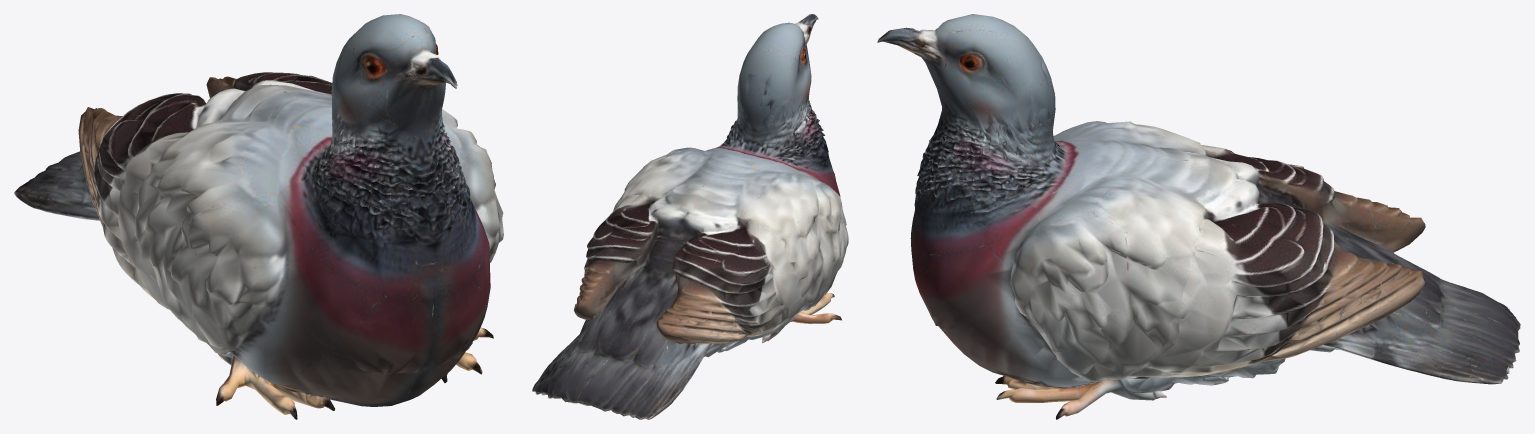
The model's file is kit_izmir_pigeon_walking.glb.
3 renders of one model, left to right at view 1: azimuth 30°, elevation 25°; view 2: azimuth 150°, elevation 25°; view 3: azimuth 270°, elevation 25°, orthographic. The views are drawn at different scales.
Visible parts, largest first — view 1: Mesh_0.001; view 2: Mesh_0.001; view 3: Mesh_0.001.
Part boxes in pixels (x1=…): Mesh_0.001: x1=14, y1=14, x2=503, y2=419; Mesh_0.001: x1=532, y1=14, x2=848, y2=419; Mesh_0.001: x1=877, y1=14, x2=1520, y2=419.
Size of the model in its own units: 0.2832 by 0.34 by 0.5595.
1 material, 1 textured.
